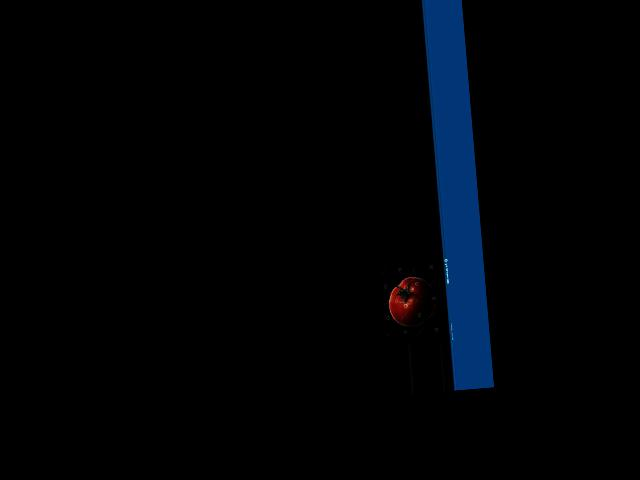tomato: (387, 275, 437, 328)
